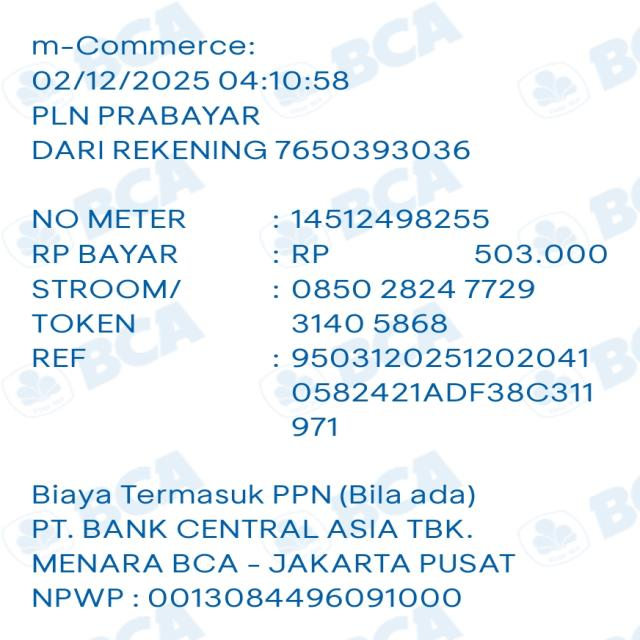date: (24, 63, 355, 93)
store: (25, 98, 267, 133)
total: (285, 240, 619, 272)
